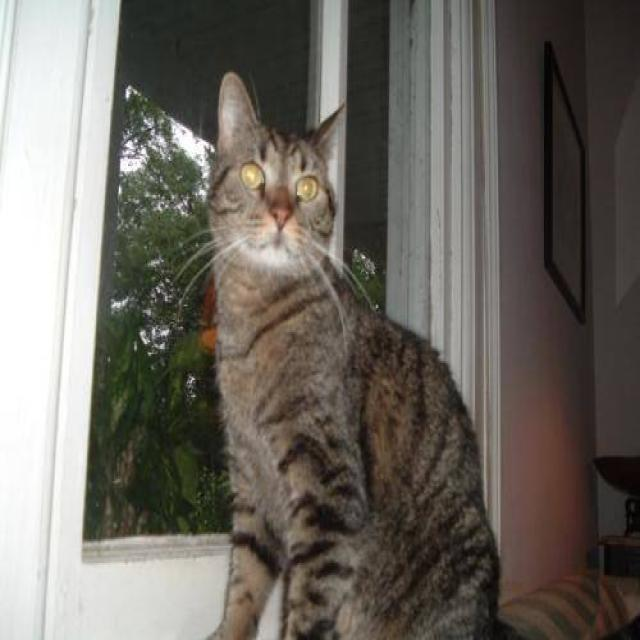cat: (168, 49, 518, 640)
